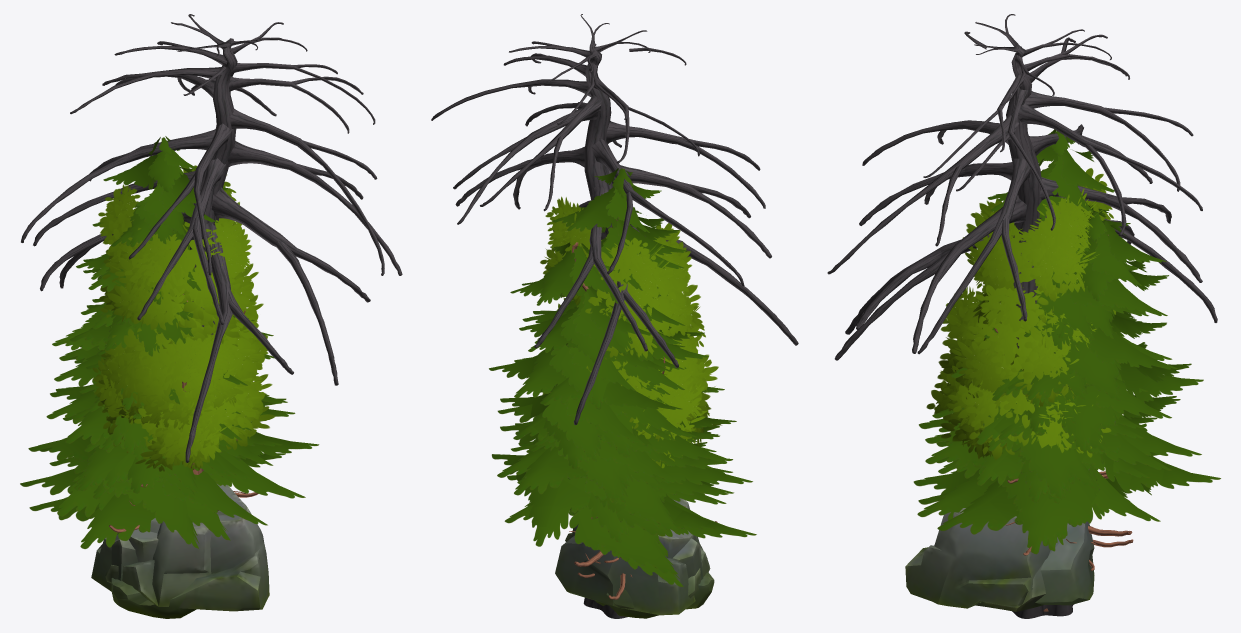
The model's file is nature.glb.
3 views of the same model, side by side, from view 1: azimuth 30°, elevation 25°; view 2: azimuth 150°, elevation 25°; view 3: azimuth 270°, elevation 25° (orthographic). The views are drawn at different scales.
Visible parts, largest first — view 1: DeadTree_4, Pine_4, CommonTree_3, Pine_5, Rock_Medium_3, Pine_2, CommonTree_1, CommonTree_2, CommonTree_4, Rock_Medium_1, Pine_1, Rock_Medium_2 (+1 smaller); view 2: Pine_5, DeadTree_4, Pine_4, CommonTree_3, Rock_Medium_2, CommonTree_4, Pine_2, CommonTree_1, CommonTree_2, Pine_1, Rock_Medium_3, Rock_Medium_1 (+1 smaller); view 3: Pine_5, DeadTree_4, Pine_4, Rock_Medium_3, CommonTree_4, CommonTree_3, Pine_2, CommonTree_2, CommonTree_1, Rock_Medium_2, Pine_1, CommonTree_5 (+1 smaller).
Part boxes in pixels (x1,y1,x2,y2): DeadTree_4: (21,14,402,462); Pine_4: (28,136,287,532); CommonTree_3: (98,167,268,434); Pine_5: (20,254,319,540); Rock_Medium_3: (111,484,269,618); Pine_2: (29,311,285,548); CommonTree_1: (96,307,275,471); CommonTree_2: (92,287,272,474); CommonTree_4: (103,165,258,313); Rock_Medium_1: (105,521,211,606); Pine_1: (49,303,267,510); Rock_Medium_2: (91,529,158,591); Pine_5: (489,242,740,574); DeadTree_4: (431,14,798,618); Pine_4: (497,168,752,599); CommonTree_3: (561,203,705,438); Rock_Medium_2: (555,529,695,615); CommonTree_4: (540,196,691,374); Pine_2: (504,342,756,586); CommonTree_1: (571,300,721,466); CommonTree_2: (542,303,715,455); Pine_1: (517,332,733,566); Rock_Medium_3: (565,524,714,609); Rock_Medium_1: (573,498,710,618); Pine_5: (918,210,1220,554); DeadTree_4: (827,14,1217,618); Pine_4: (918,129,1180,555); Rock_Medium_3: (905,508,1050,608); CommonTree_4: (962,168,1113,611); CommonTree_3: (937,186,1110,444); Pine_2: (913,332,1160,551); CommonTree_2: (926,285,1111,611); CommonTree_1: (934,291,1079,458); Rock_Medium_2: (1035,521,1094,605); Pine_1: (936,326,1157,536); CommonTree_5: (948,310,1115,446).
Size of the model in its own units: 7.96 by 12.77 by 7.91.
Materials: 8 (8 with a texture image).
